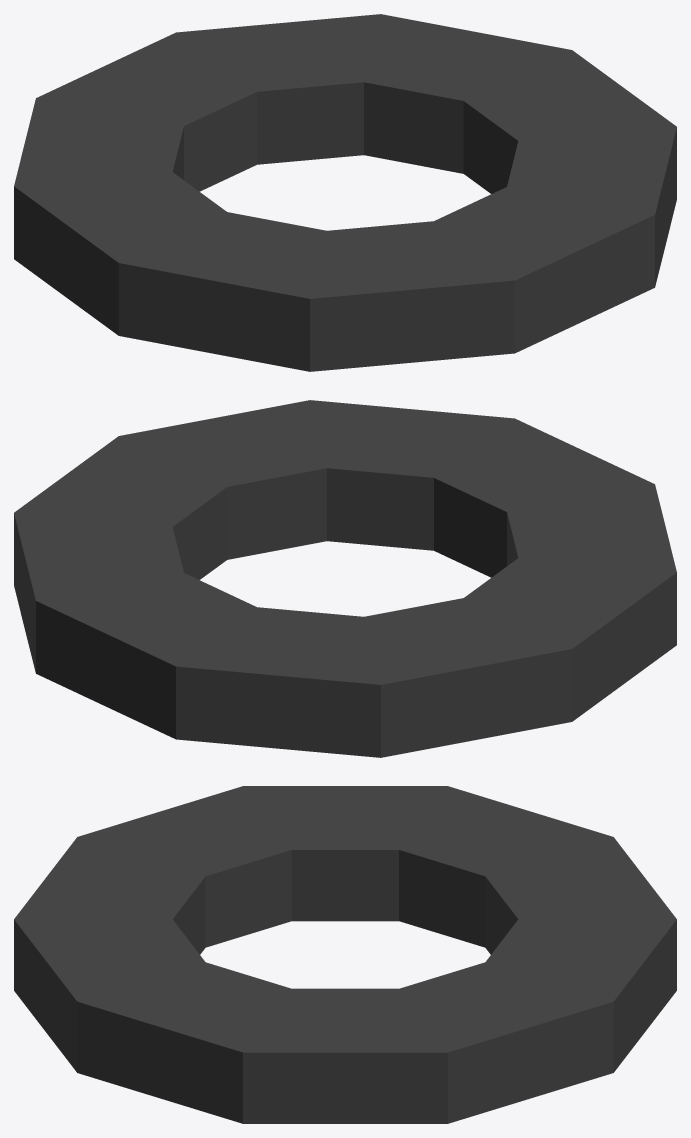
Rendered from Stack2.fbx.
The picture shows the model from 3 angles, top to bottom: view 1: azimuth 30°, elevation 25°; view 2: azimuth 150°, elevation 25°; view 3: azimuth 270°, elevation 25°; orthographic projection. The views are drawn at different scales.
Visible parts, largest first — view 1: Cylinder.011, Cylinder.014, Cylinder.010, Cylinder.012, Cylinder.013; view 2: Cylinder.014, Cylinder.013, Cylinder.010, Cylinder.011, Cylinder.012; view 3: Cylinder.012, Cylinder.010, Cylinder.013, Cylinder.011, Cylinder.014.
Part boxes in pixels (x1,y1,x2,y2): Cylinder.011: (118,212,514,371); Cylinder.014: (36,14,380,191); Cylinder.010: (434,126,676,353); Cylinder.012: (364,14,676,193); Cylinder.013: (14,98,226,335); Cylinder.014: (36,573,380,757); Cylinder.013: (364,558,676,757); Cylinder.010: (119,400,514,559); Cylinder.011: (434,418,676,577); Cylinder.012: (14,436,227,672); Cylinder.012: (243,962,613,1123); Cylinder.010: (14,919,291,1123); Cylinder.013: (243,786,612,947); Cylinder.011: (14,786,291,954); Cylinder.014: (485,837,676,1072).
Bounding box in the file's own units: 190 × 23.75 × 200.
